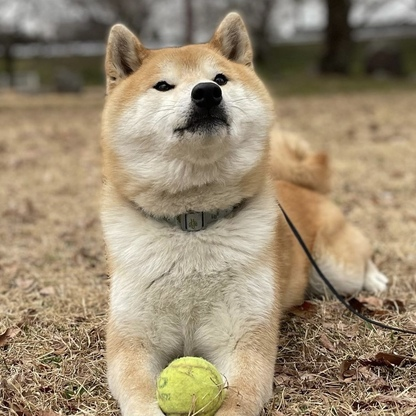shiba: (93, 10, 390, 416)
